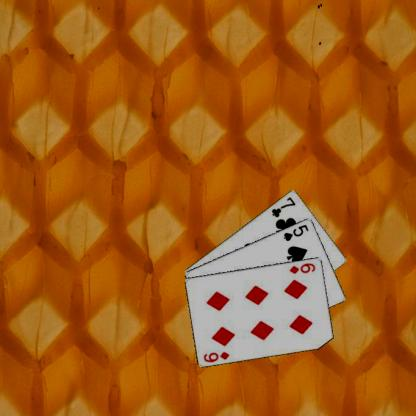5S: (281, 222, 309, 242)
6D: (287, 260, 317, 274), (201, 349, 231, 363)
7C: (269, 194, 296, 218)
